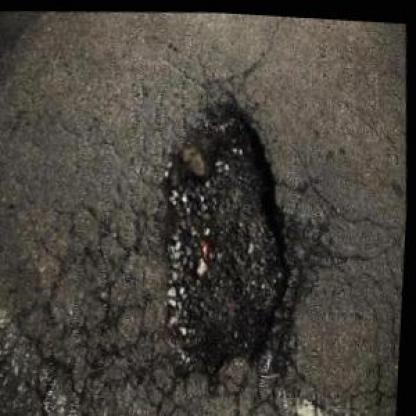pothole: (141, 85, 319, 380)
